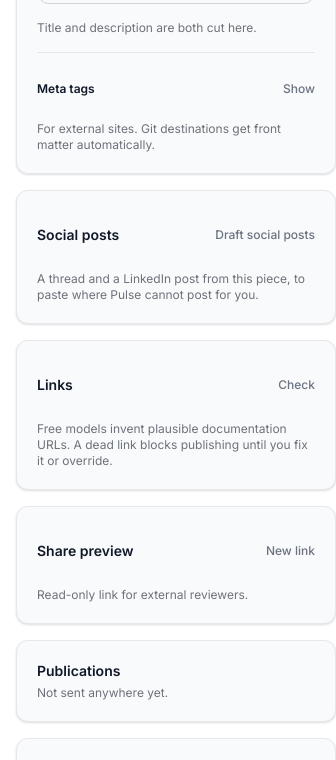
Scenario: the link check › reports a clean run in the singular for one link
The image size is (336, 760).
(page scrolled)
Click the button "Check".
click(297, 384)  # box [268,360,325,408]
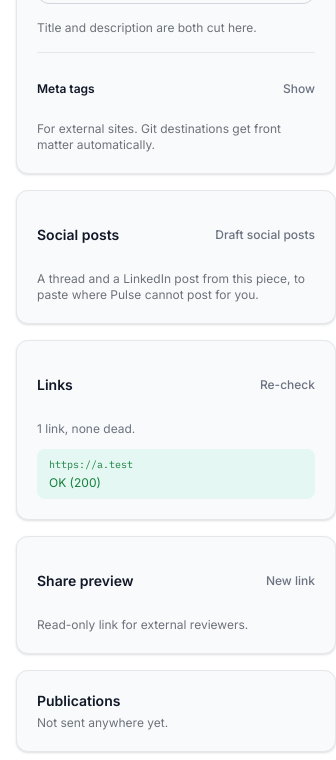
Expected: the text "1 link, none dead." is shown, [37,420,135,436]
